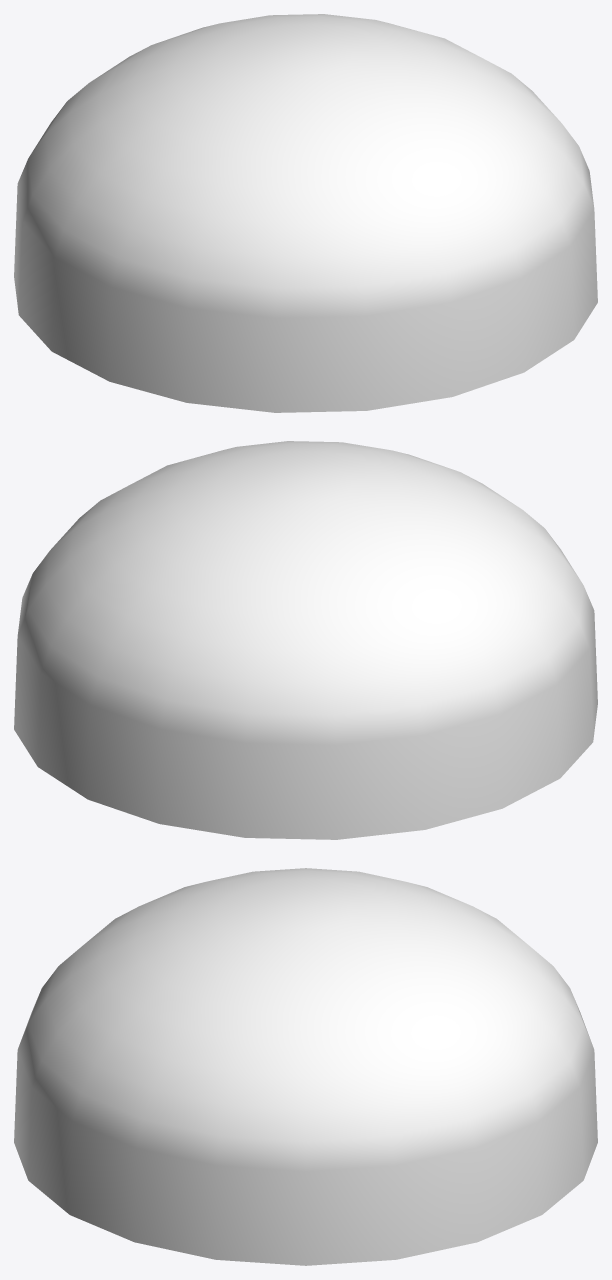
File: submit_button_2.fbx
The picture shows the model from 3 angles, top to bottom: view 1: azimuth 30°, elevation 25°; view 2: azimuth 150°, elevation 25°; view 3: azimuth 270°, elevation 25°; orthographic projection.
Parts seen in each view (by area): view 1: pSphere1; view 2: pSphere1; view 3: pSphere1.
Boxes of the visible parts, left/top/right/bottom form: pSphere1: left=14, top=14, right=597, bottom=412; pSphere1: left=14, top=441, right=597, bottom=839; pSphere1: left=14, top=868, right=597, bottom=1265.
Bounding box in the file's own units: 11.34 × 5.01 × 11.34.
1 material, 1 textured.
